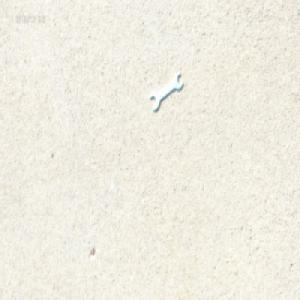Wrench: (150, 72, 183, 111)
